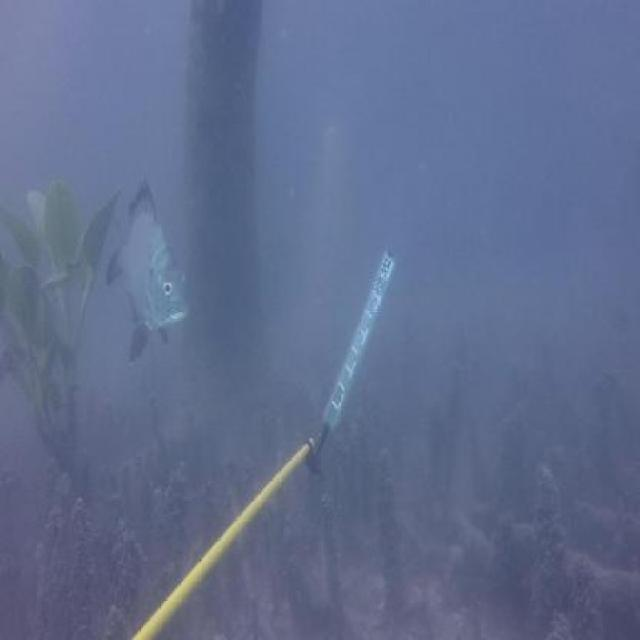acanthopagrus_palmaris: (107, 176, 191, 367)
